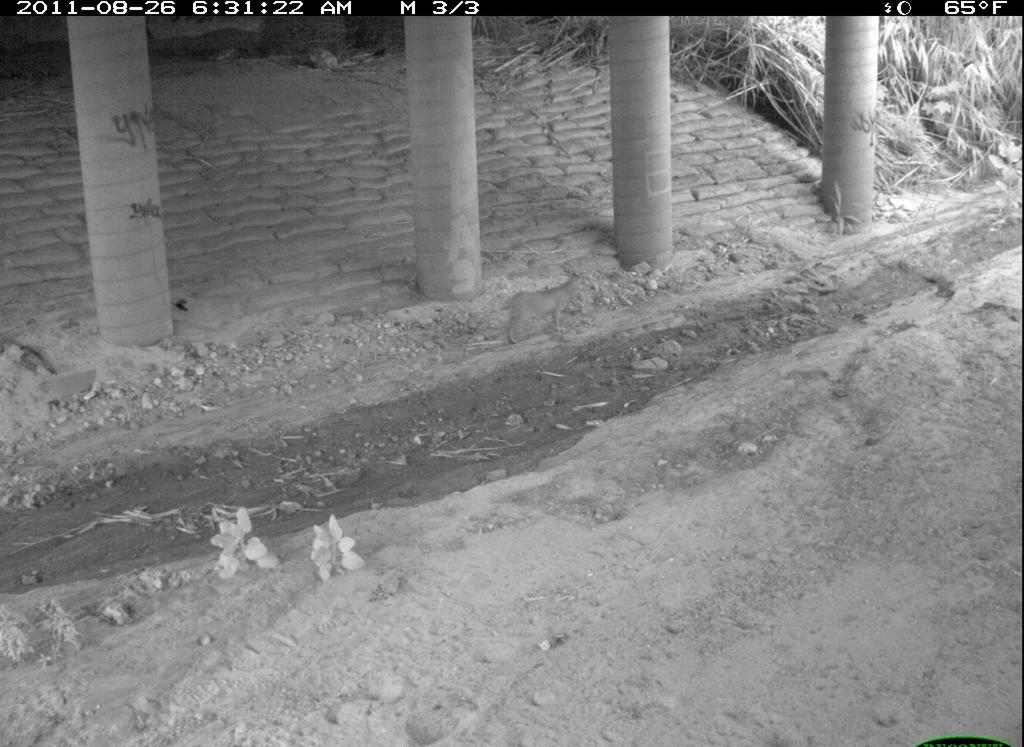bobcat: (992, 536, 1024, 703)
